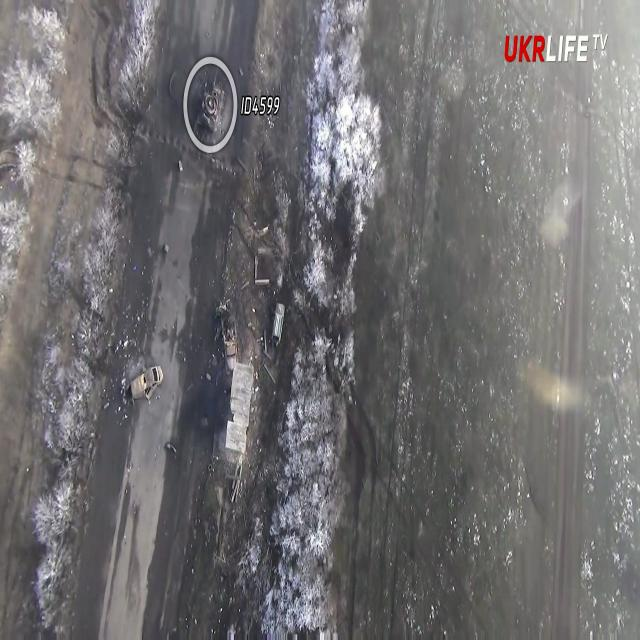cars: (272, 301, 285, 344)
destroyed: (196, 88, 225, 140), (132, 364, 163, 404), (224, 314, 238, 373)
